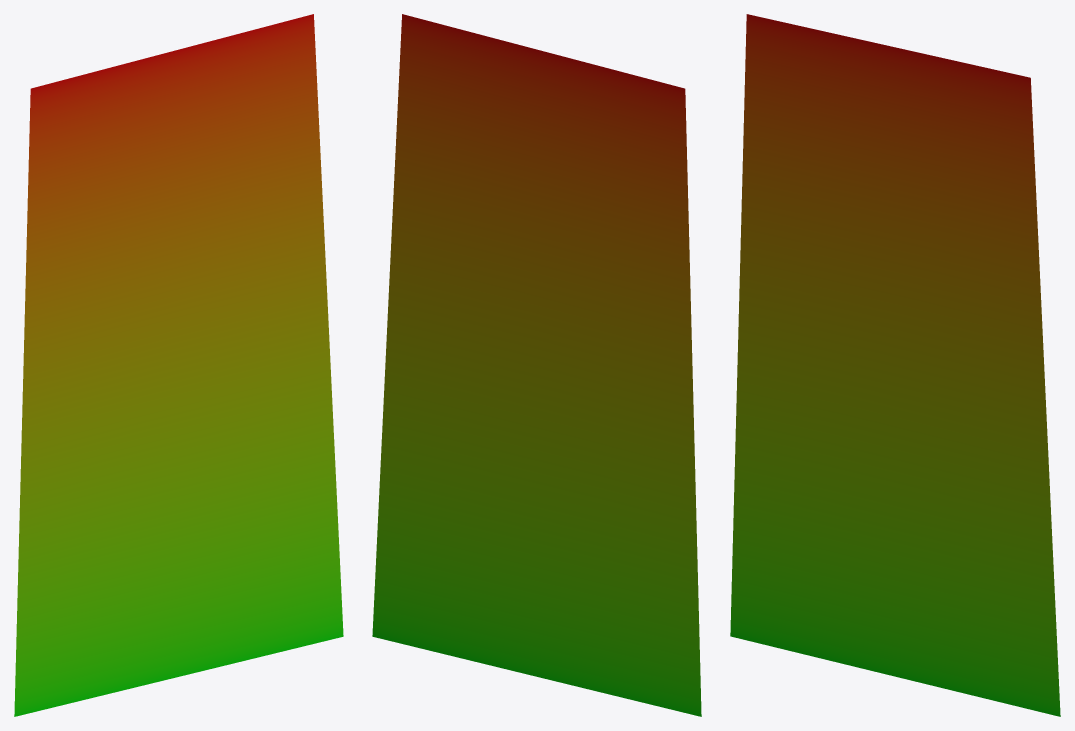
File: Var1_LOD5.fbx
3 views of the same model, side by side, from view 1: azimuth 30°, elevation 25°; view 2: azimuth 150°, elevation 25°; view 3: azimuth 330°, elevation 25° (orthographic).
Visible parts, largest first — view 1: _d7b7_Var1_LOD5; view 2: _d7b7_Var1_LOD5; view 3: _d7b7_Var1_LOD5.
Part boxes in pixels (bbox=[...]): _d7b7_Var1_LOD5: bbox=[14, 14, 343, 716]; _d7b7_Var1_LOD5: bbox=[372, 14, 701, 716]; _d7b7_Var1_LOD5: bbox=[730, 14, 1060, 716].
Bounding box in the file's own units: 76.89 × 141 × 2.46e-05.
